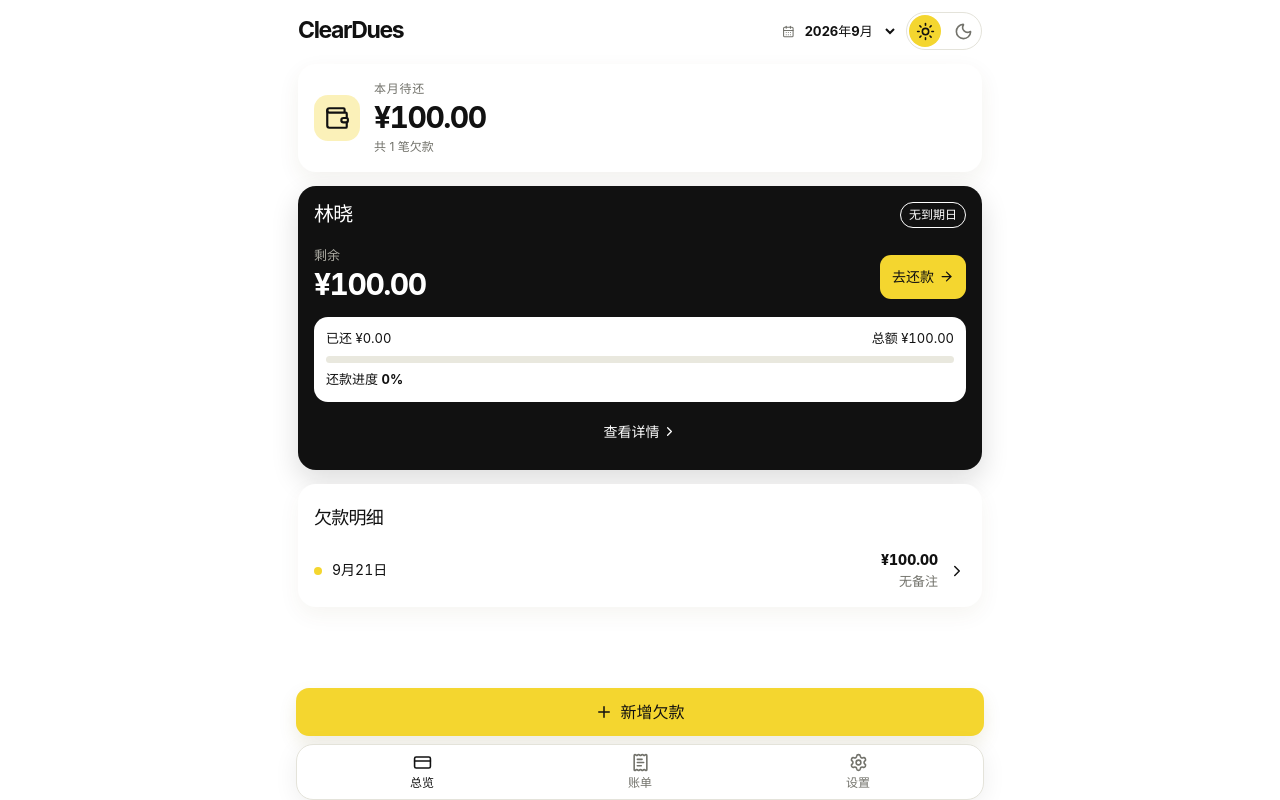
Test case: ClearDues mobile interactions › requires confirmation before deleting a debt and closes the detail after confirmation
Click the button "查看详情".
click(640, 432)  # box [314,410,966,454]
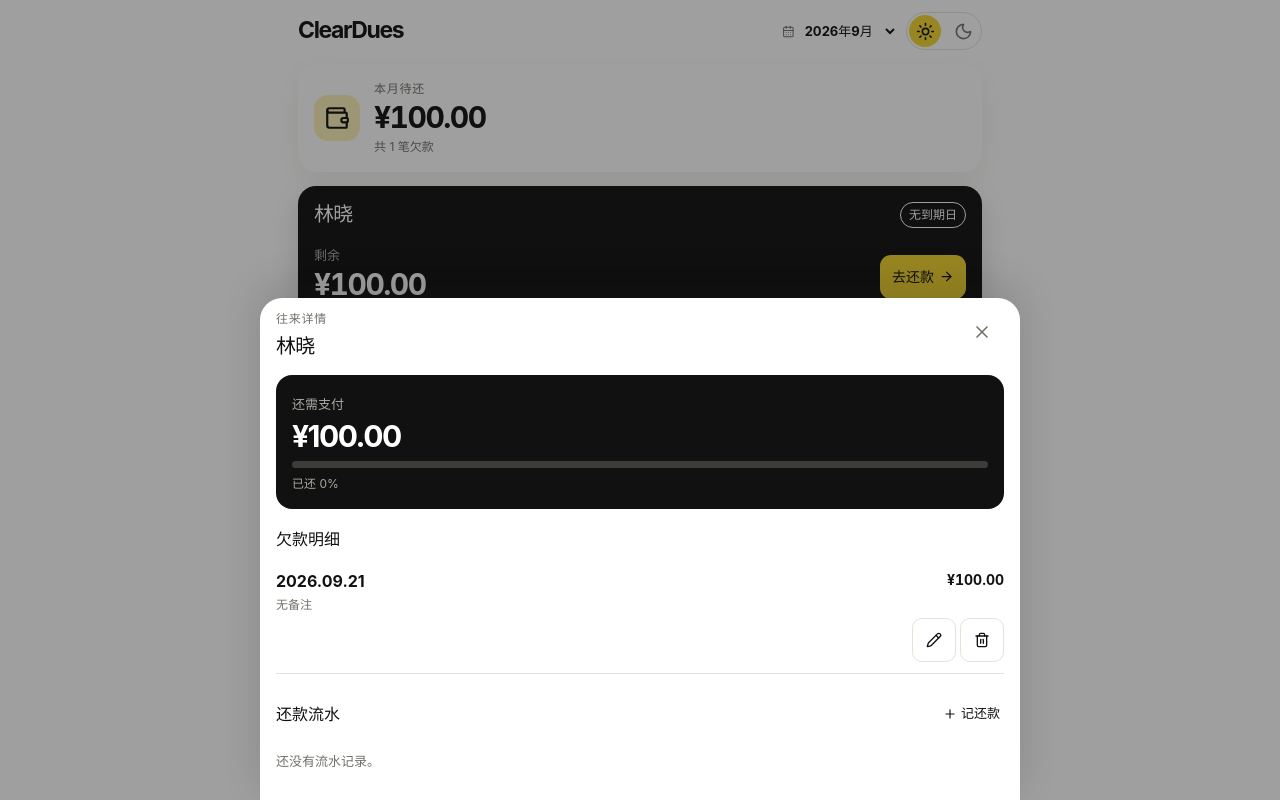
Click the button named "删除欠款 林晓".
click(982, 640)  # box [960,618,1004,662]
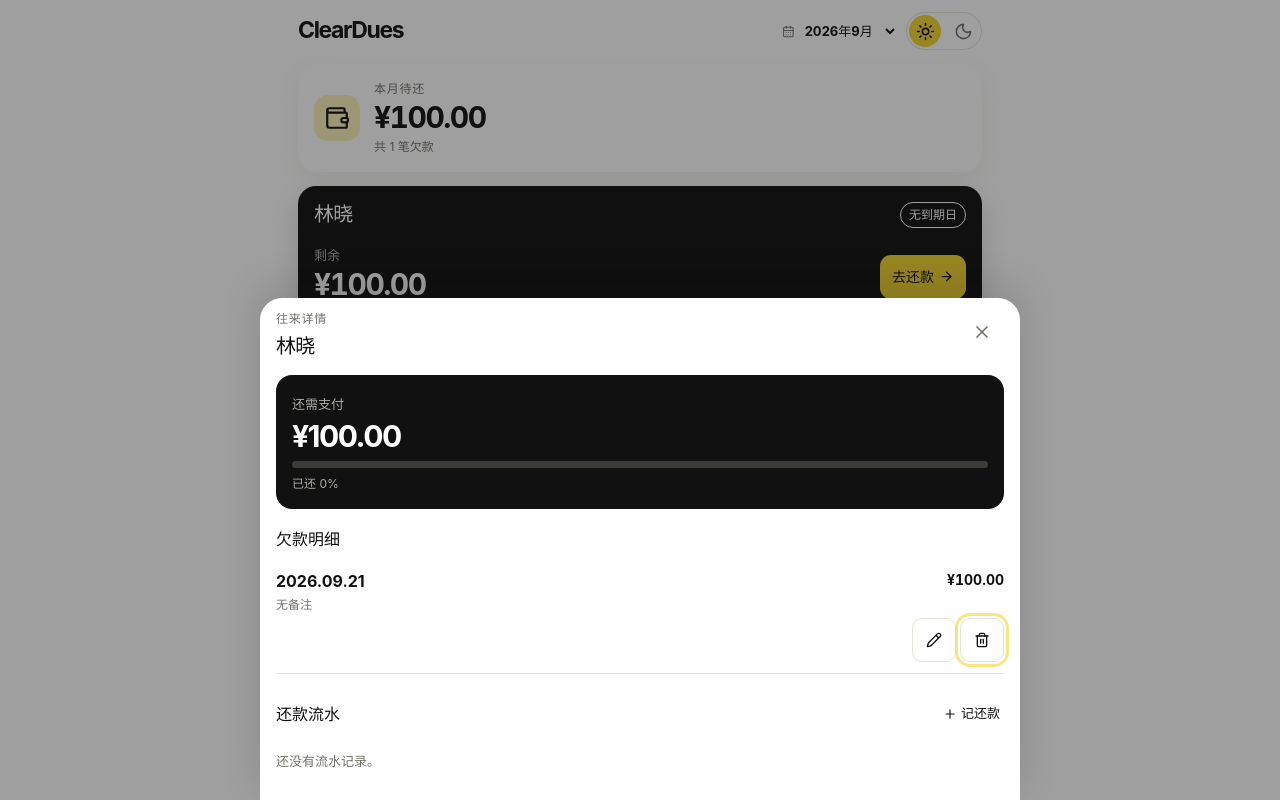
Result: the dialog "林晓" is shown at [260,298,1020,799]
Click the button named "删除欠款 林晓".
click(982, 640)  # box [960,618,1004,662]
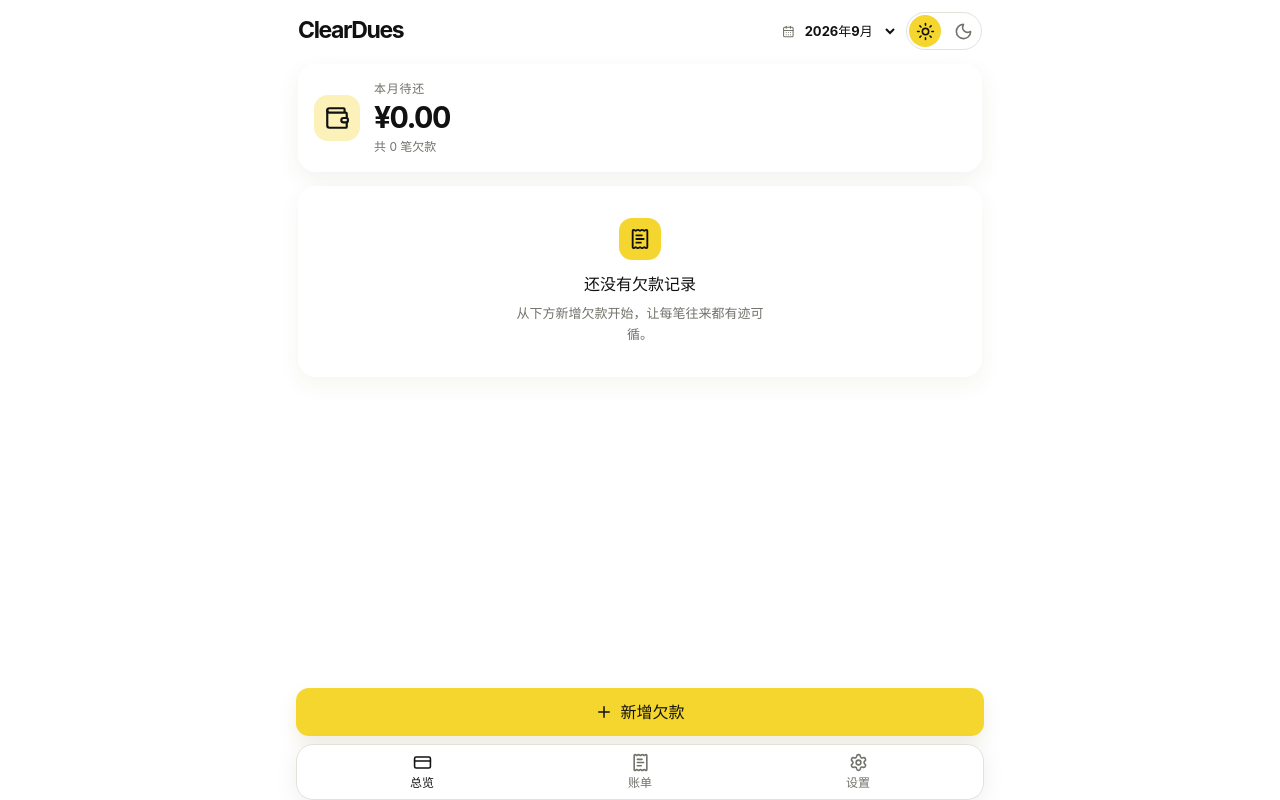
Result: the dialog is gone
